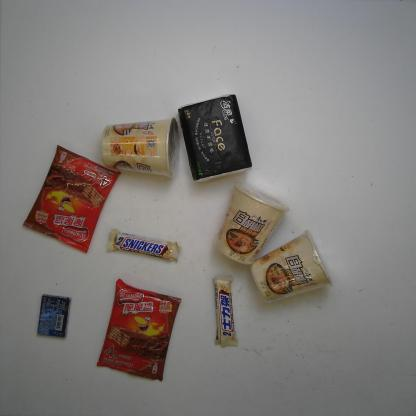Chocolate: (107, 228, 181, 264), (213, 274, 238, 348)
Dessert: (22, 144, 121, 254), (96, 278, 181, 381)
Gum: (36, 294, 72, 338)
Instant Noodles: (216, 181, 290, 266), (252, 230, 332, 302), (101, 117, 180, 180)
Tissue: (178, 94, 253, 183)
